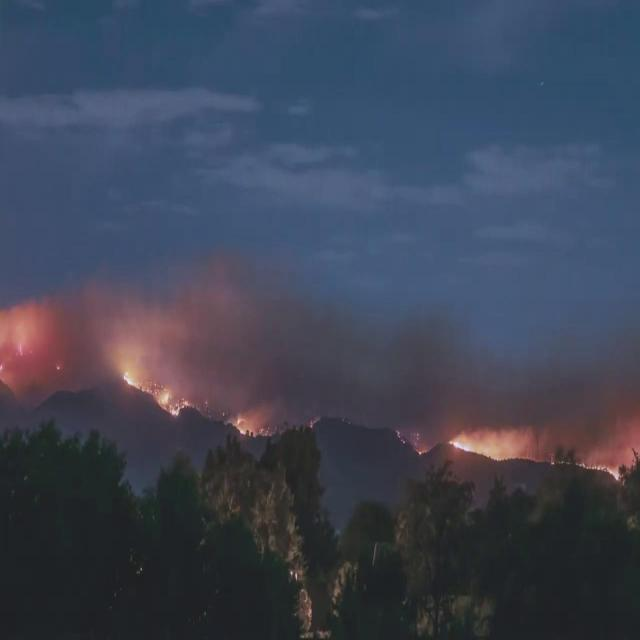Fire: (123, 372, 195, 421), (448, 427, 534, 463), (578, 458, 622, 480), (235, 415, 258, 438), (416, 446, 426, 454)
